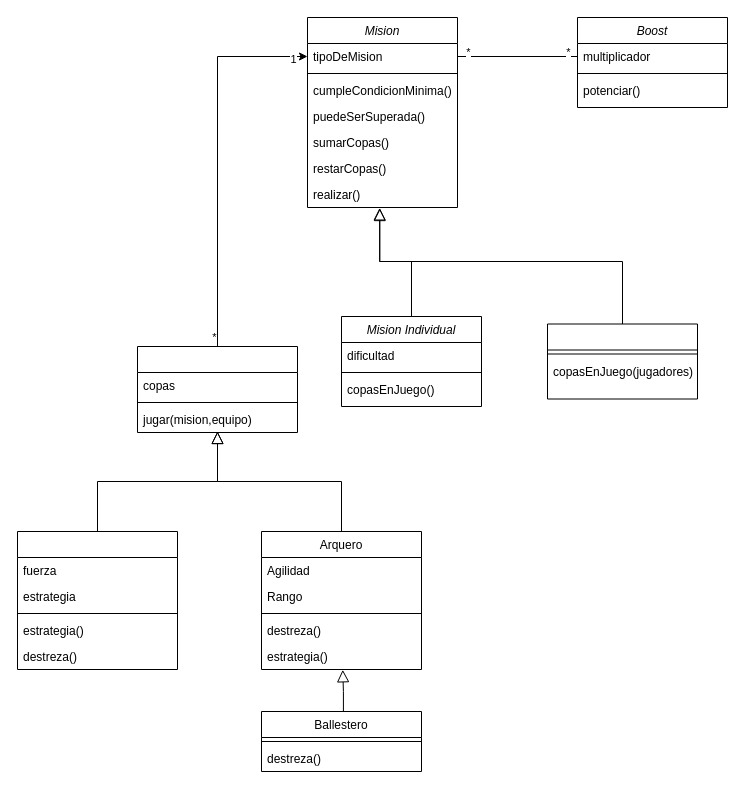
Some shapes in this 745 by 792 pixel diagram are drawn without their labels. The shapes that lost their labels are listed below. From the top down, each one's box as (x1, y1, x2, y2) in pixels, then its label:
(546, 323, 698, 399): Mision por Equipos
(136, 346, 298, 432): Personaje
(16, 530, 178, 670): Guerrera
